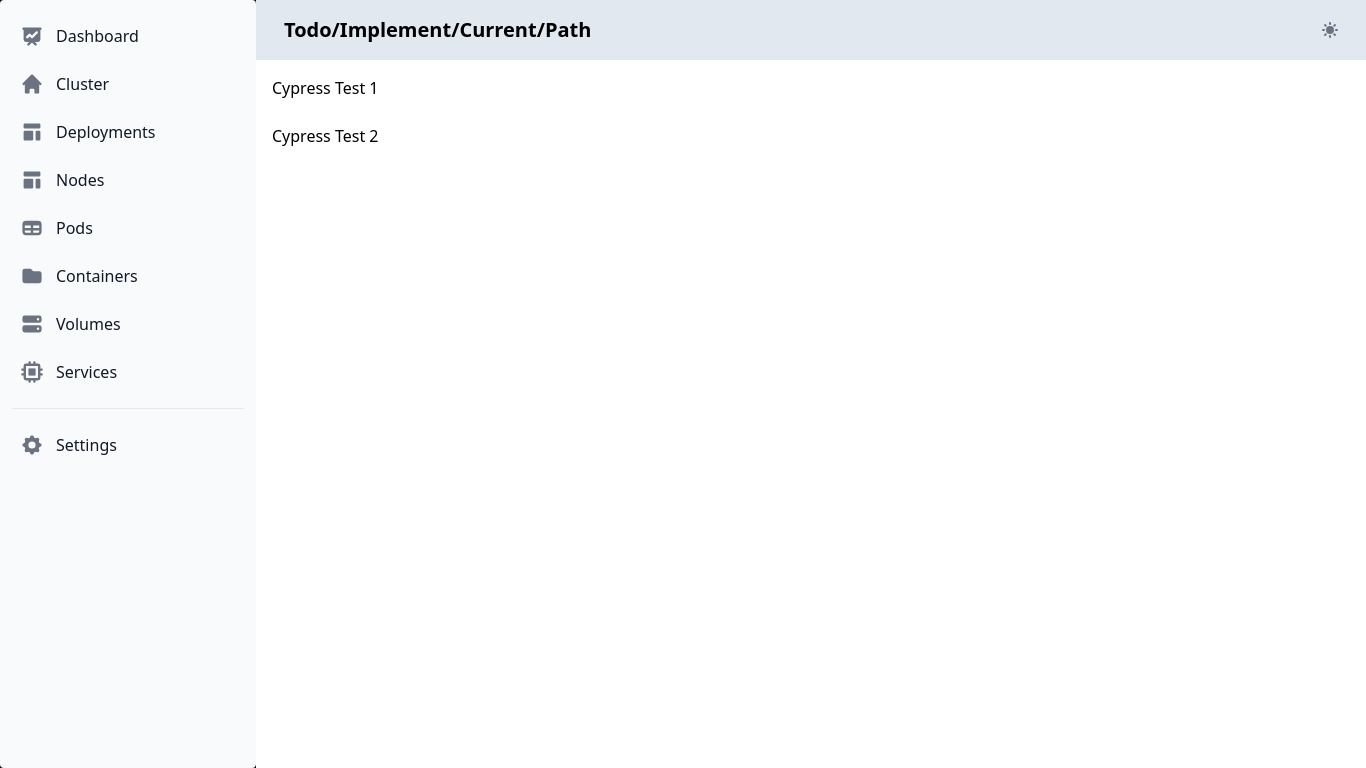
Scenario: Navigation › should navigate to the about page
This screenshot has width=1366, height=768.
Note: Find a link with an href attribute containing "cypress_test_2" and click it
Click the link "Cypress Test 2" at [326, 136], box 272,125 -> 379,147
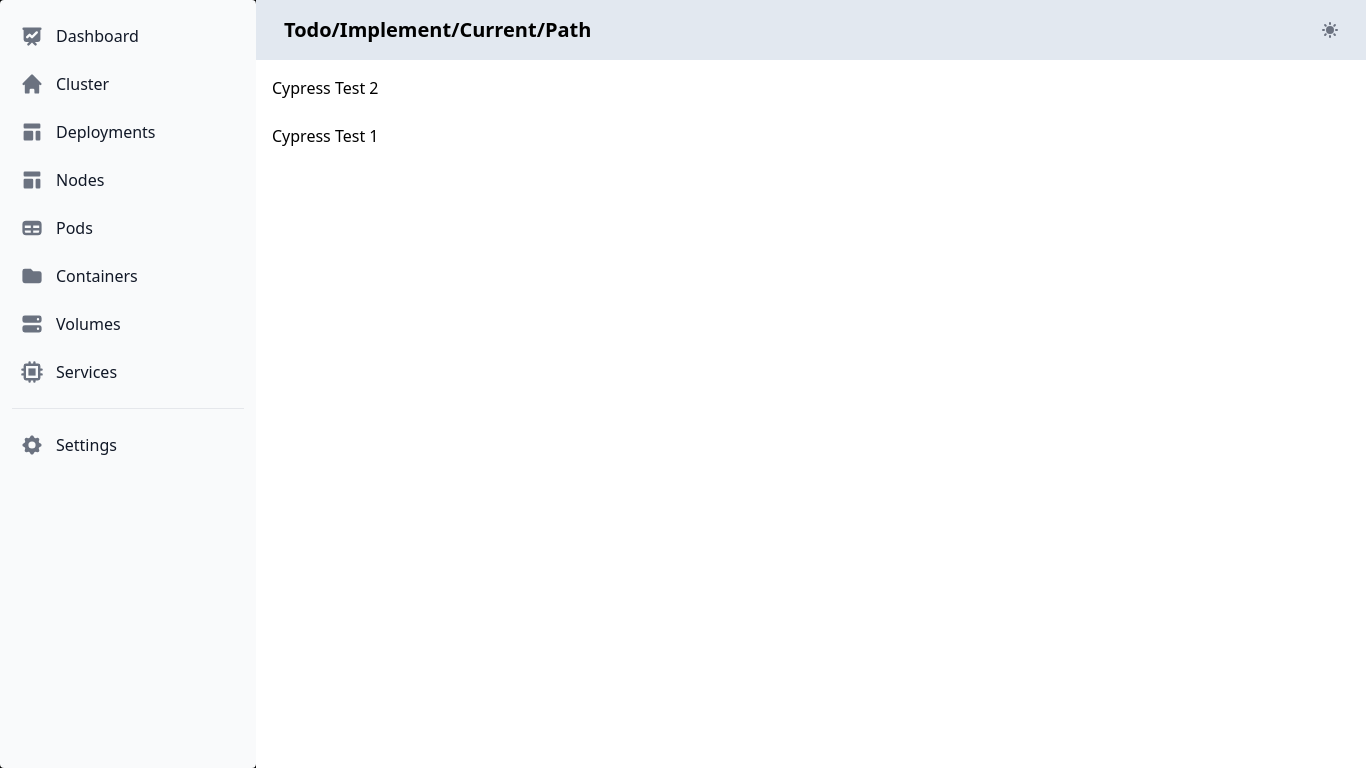
Check: the heading "Cypress Test 2" is shown, box 272,77 -> 378,99
